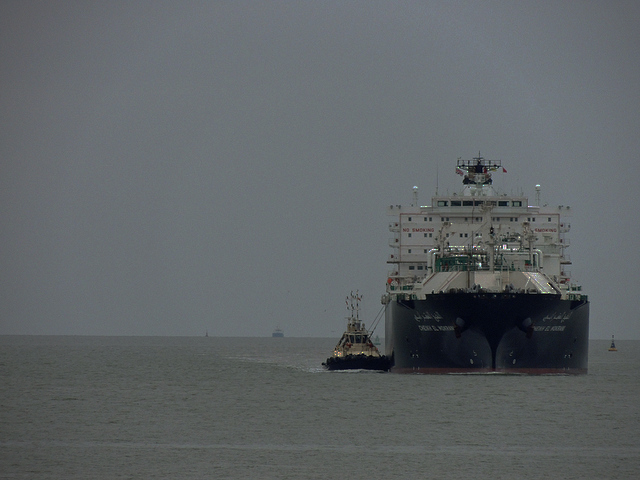LNG_ship: (385, 145, 596, 372)
tug_boat: (321, 291, 392, 376)
